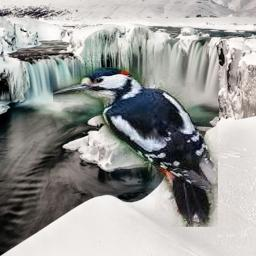Woodpecker: (54, 67, 219, 227)
